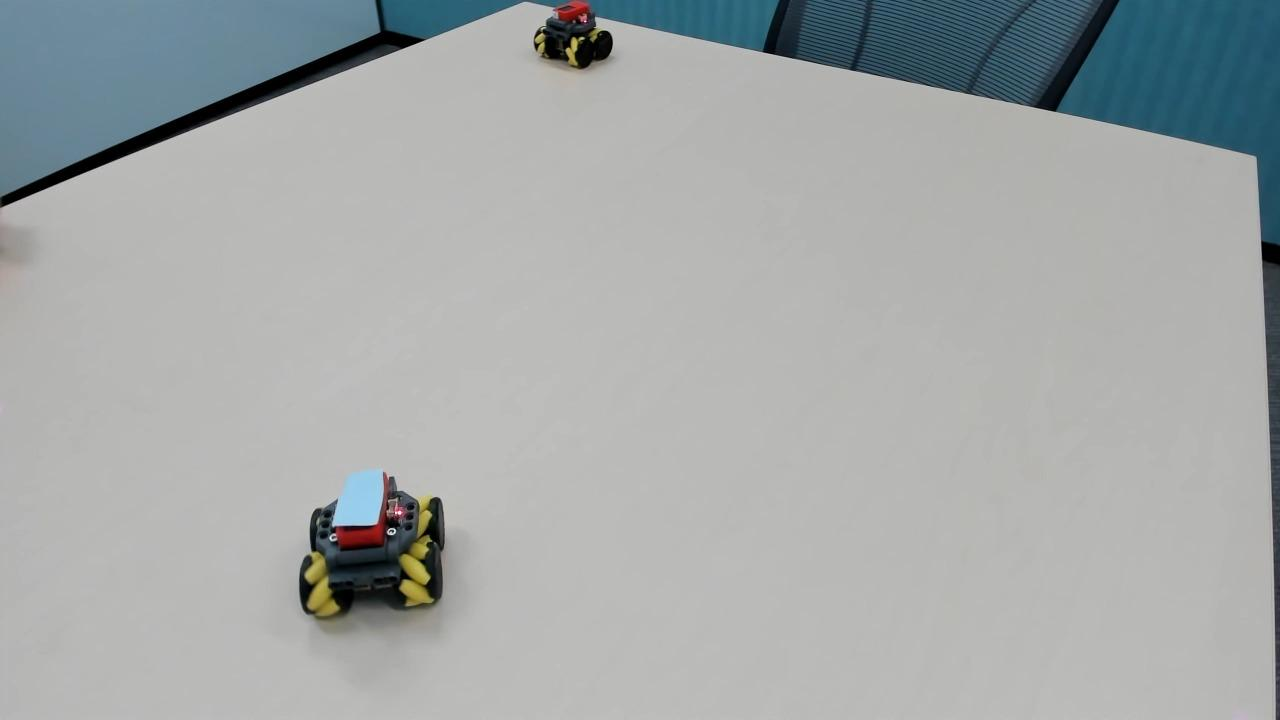B-Robot: (284, 459, 468, 646)
R-Robot: (521, 0, 615, 76)
